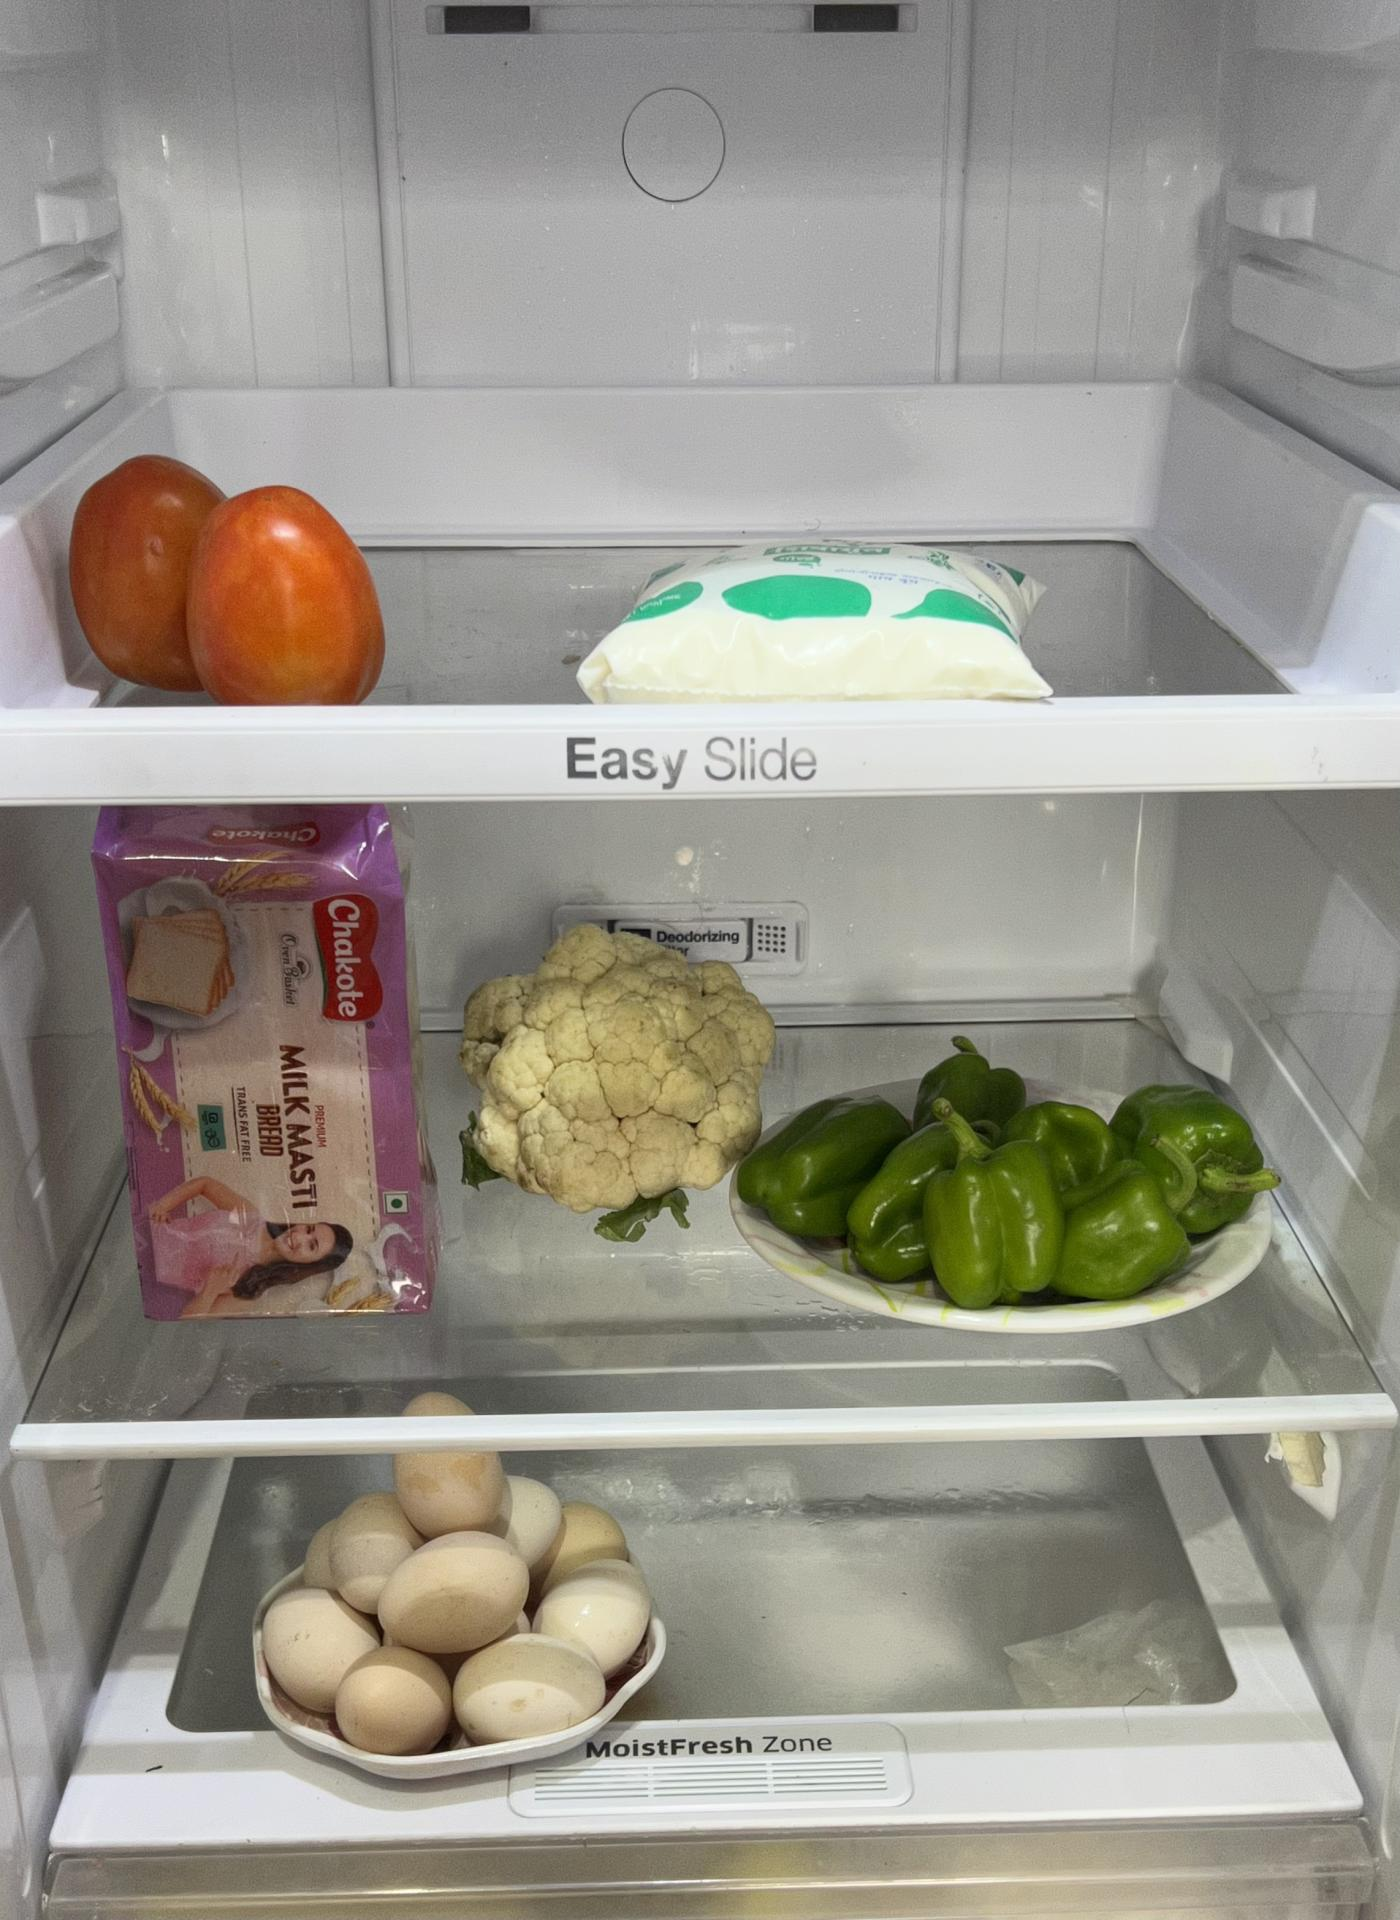bread: (82, 793, 441, 1316)
capsicum: (738, 1043, 1296, 1315)
cauliflower: (456, 921, 768, 1209)
egg: (256, 1446, 660, 1759)
milk: (576, 534, 1065, 705)
tomato: (61, 441, 400, 708)
